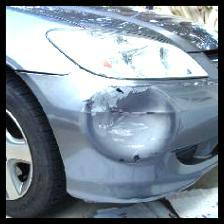bumper_dent: (71, 79, 188, 183)
